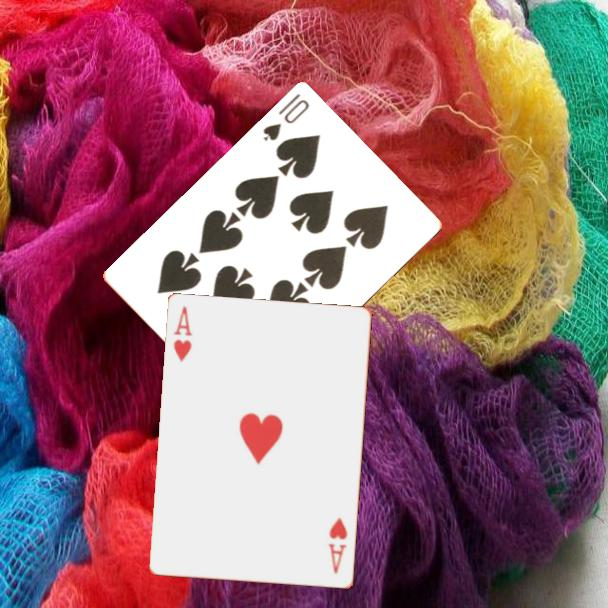h01: (325, 514, 351, 577), (170, 303, 195, 365)
s10: (259, 90, 312, 145)
